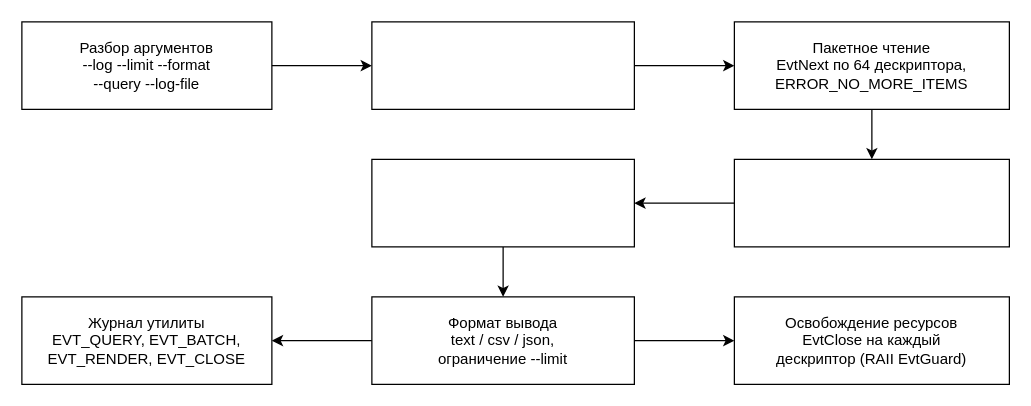
Image size: 1031x406. Some labels were removed from this diagram. The centre of each missing label's shape, as x and y in pixels:
Открытие журнала EvtQuery (канал или XPath, обратный порядок): the point at 502,65
Разбор XML и сообщение Provider, EventID, Level, EvtFormatMessage + publisher: the point at 502,202
Рендер события EvtRenderEventXml, рост буфера по коду ошибки: the point at 871,202
